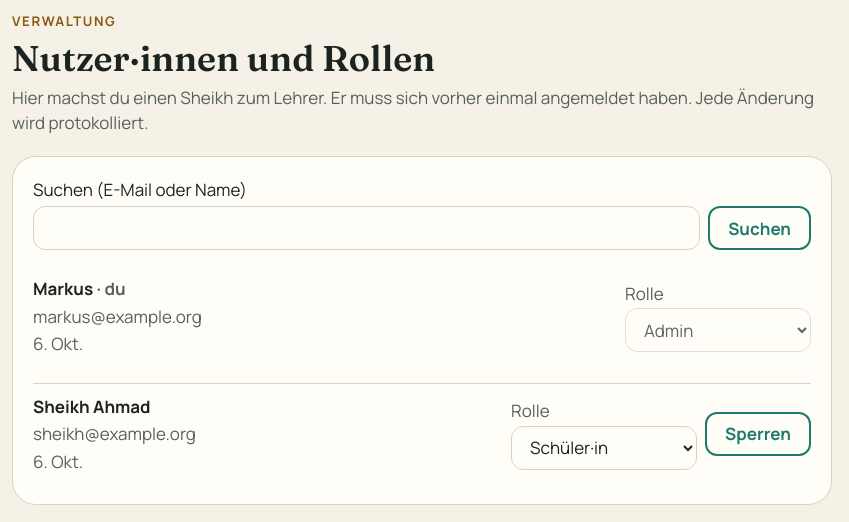
Scenario: the admin area (ADR-0005) › searches by address or name
Expected: the text "Sheikh Ahmad" is shown, left=33, top=395, right=151, bottom=418
Type "sheikh" into the search field labelled "Suchen (E-Mail oder Name)".
click(367, 228); type("sheikh")  # box left=33, top=206, right=700, bottom=250
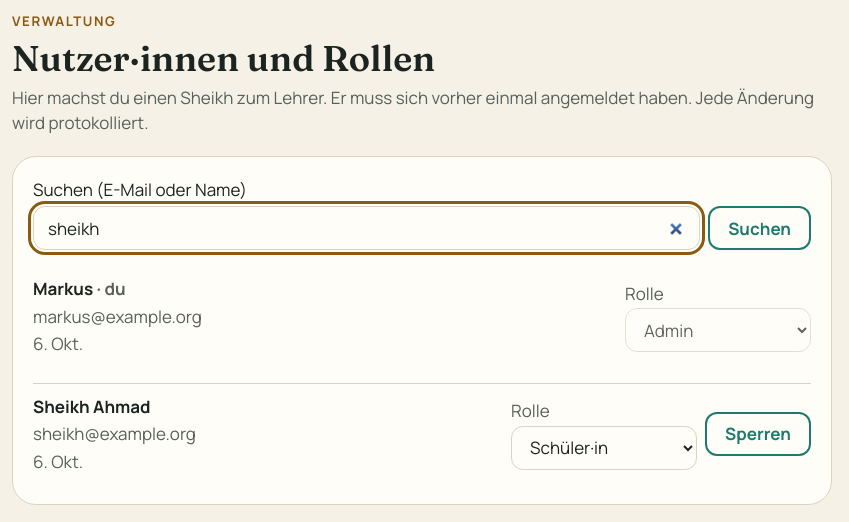
Click the button "Suchen".
click(760, 228)  # box left=708, top=206, right=811, bottom=250
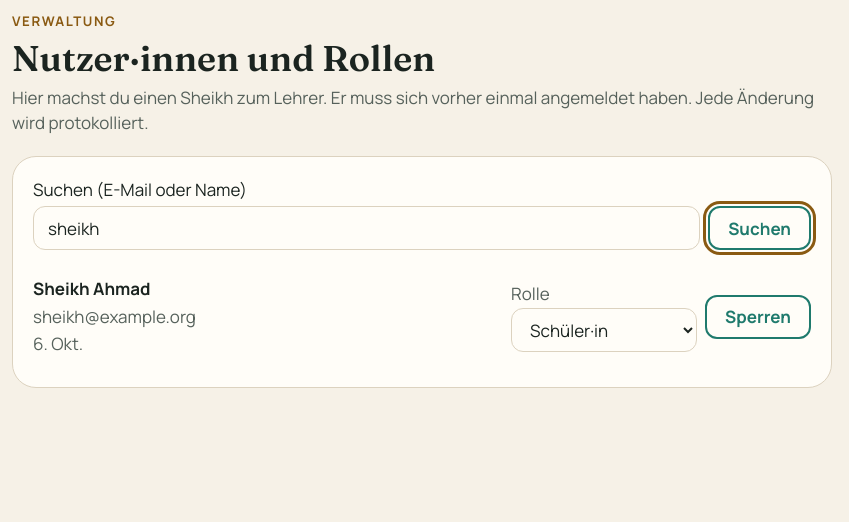
Result: the text "Markus" is gone
